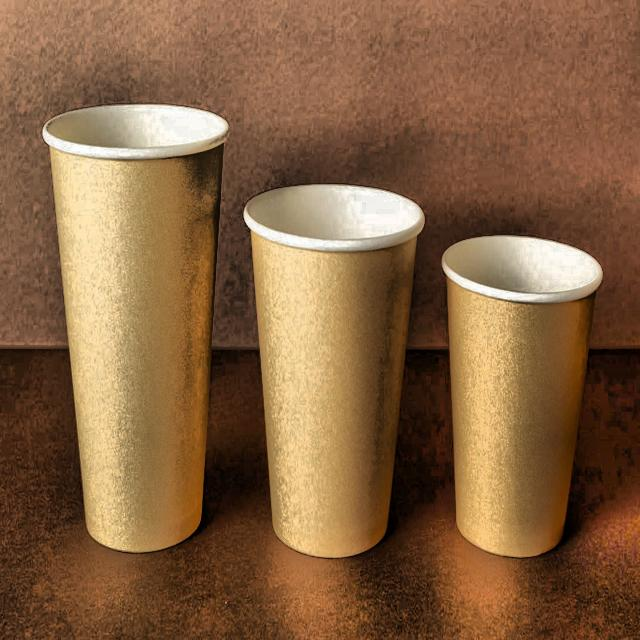Cup: (34, 94, 237, 569), (240, 159, 426, 570), (439, 213, 608, 581)
